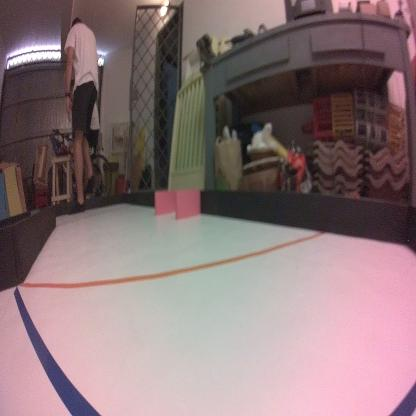magenta: (174, 188, 200, 219), (156, 188, 177, 217)
